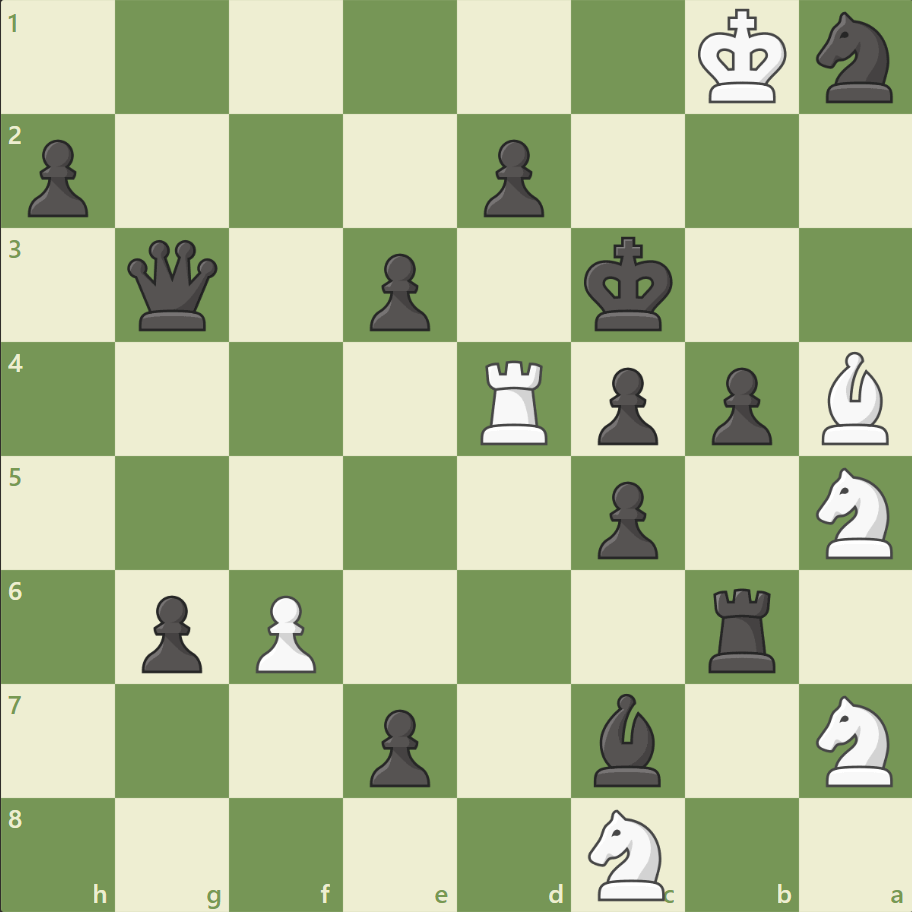B: (812, 347, 896, 449)
K: (692, 4, 792, 112)
N: (806, 688, 903, 791), (806, 461, 903, 564), (579, 802, 676, 904)
P: (247, 586, 322, 677)
R: (473, 352, 556, 449)
b: (585, 687, 669, 790)
k: (579, 231, 679, 339)
n: (806, 7, 903, 110)
p: (133, 586, 208, 677), (701, 359, 776, 450), (474, 132, 549, 223), (20, 132, 95, 223), (361, 700, 435, 791), (588, 473, 662, 564), (588, 359, 662, 450), (361, 246, 435, 337)
q: (124, 236, 223, 335)
r: (700, 579, 783, 676)
